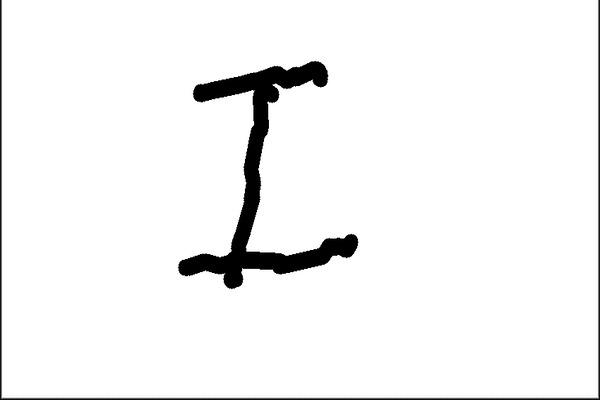i: (168, 54, 369, 287)
